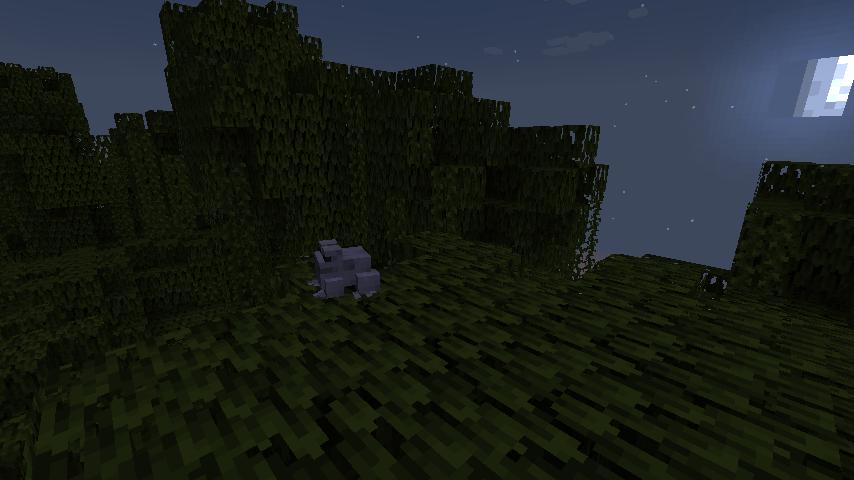frog: (307, 235, 384, 302)
